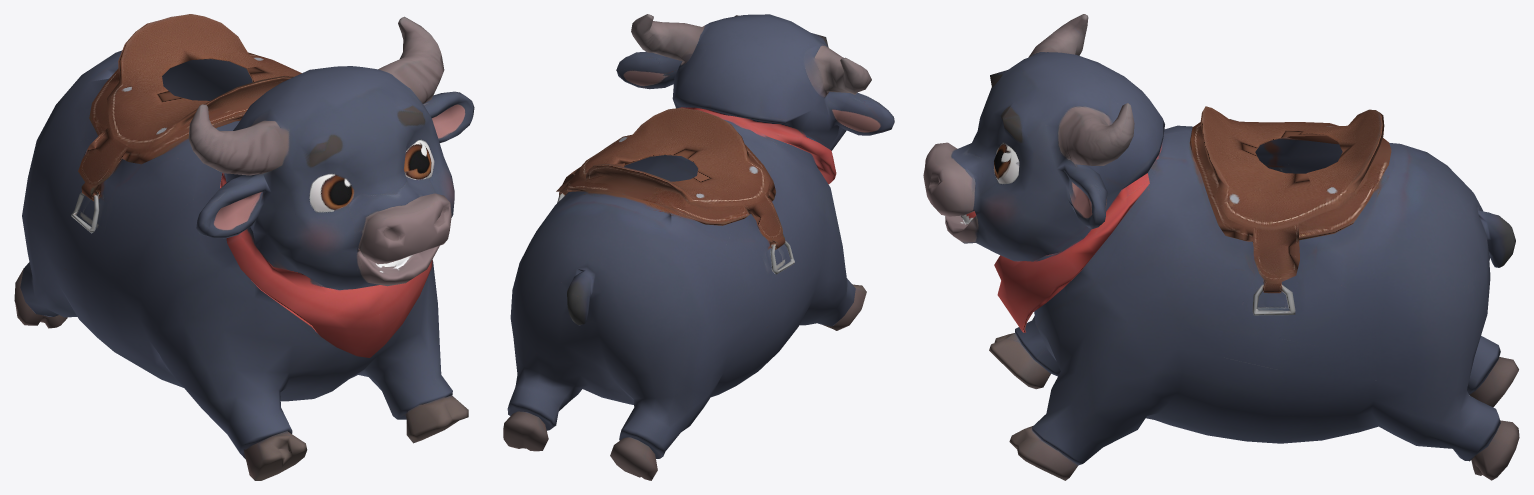
3 views of the same model, side by side, from view 1: azimuth 30°, elevation 25°; view 2: azimuth 150°, elevation 25°; view 3: azimuth 270°, elevation 25° (orthographic). The views are drawn at different scales.
Bounding box in the file's own units: 0.5542 × 0.6855 × 0.9512.
Materials: 1 (1 with a texture image).
